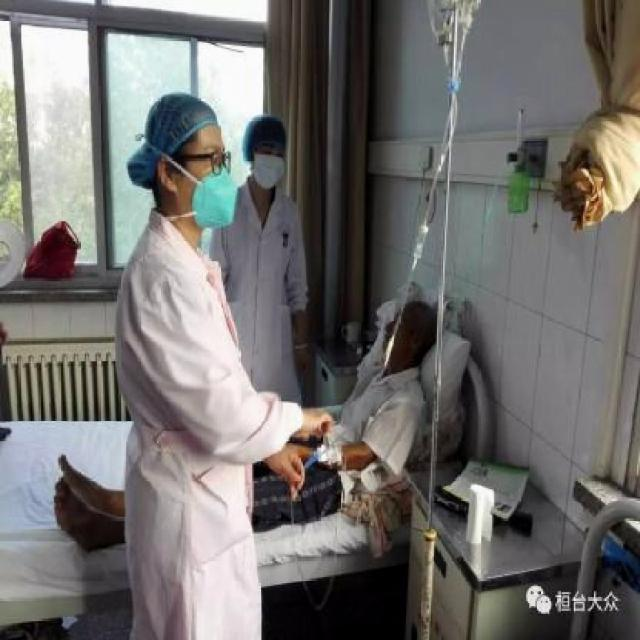face_mask: (178, 135, 238, 237), (251, 137, 292, 198)
glasses: (197, 148, 235, 175)
hand_noglove: (269, 448, 306, 502), (294, 405, 334, 443), (295, 350, 311, 376)
head_nohelmet: (132, 88, 242, 140)
person: (81, 86, 297, 640), (37, 292, 495, 552), (214, 117, 335, 437)
